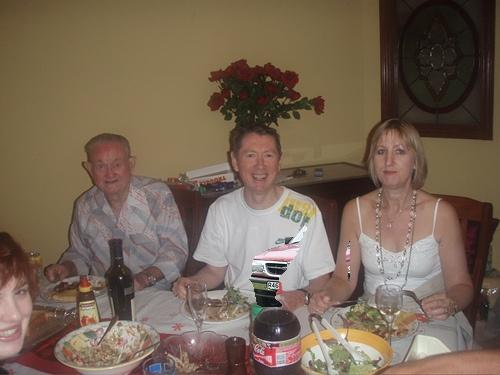tampered: (250, 225, 350, 307)
